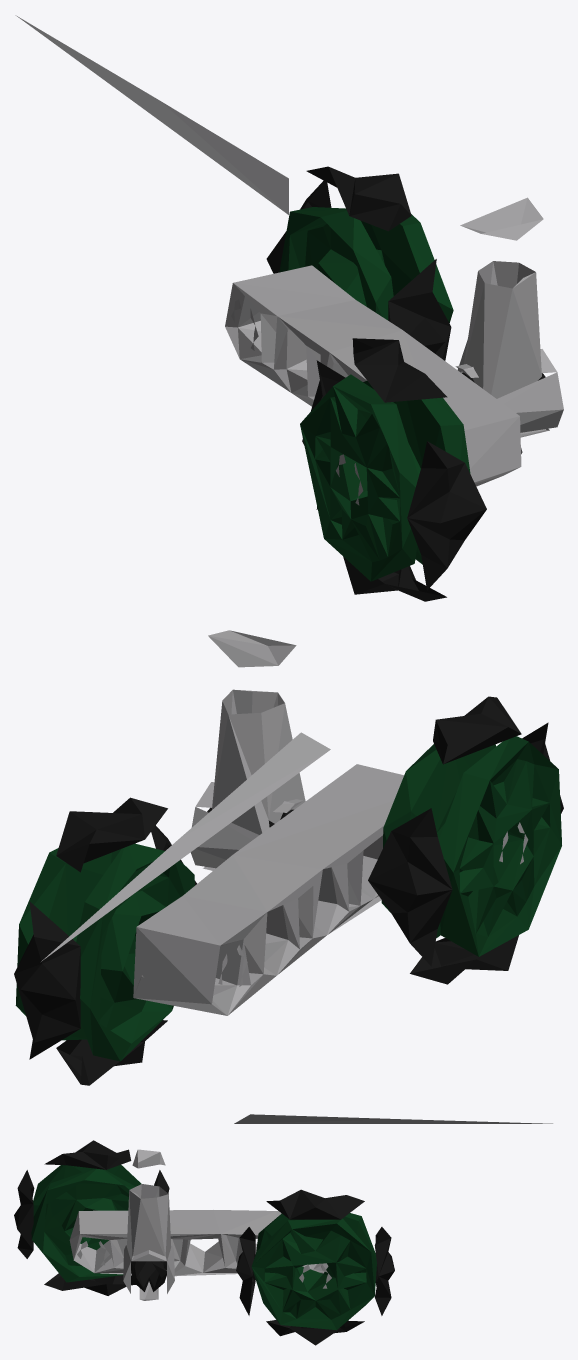
Rendered from gear-left.glb.
The picture shows the model from 3 angles, top to bottom: view 1: azimuth 30°, elevation 25°; view 2: azimuth 150°, elevation 25°; view 3: azimuth 270°, elevation 25°; orthographic projection. The views are drawn at different scales.
Parts seen in each view (by area): view 1: leftGear; view 2: leftGear; view 3: leftGear.
Part boxes in pixels (bbox=[...]): leftGear: bbox=[15, 15, 563, 601]; leftGear: bbox=[14, 630, 563, 1085]; leftGear: bbox=[14, 1114, 552, 1345].
Size of the model in its own units: 1.03 by 1.27 by 3.42.
